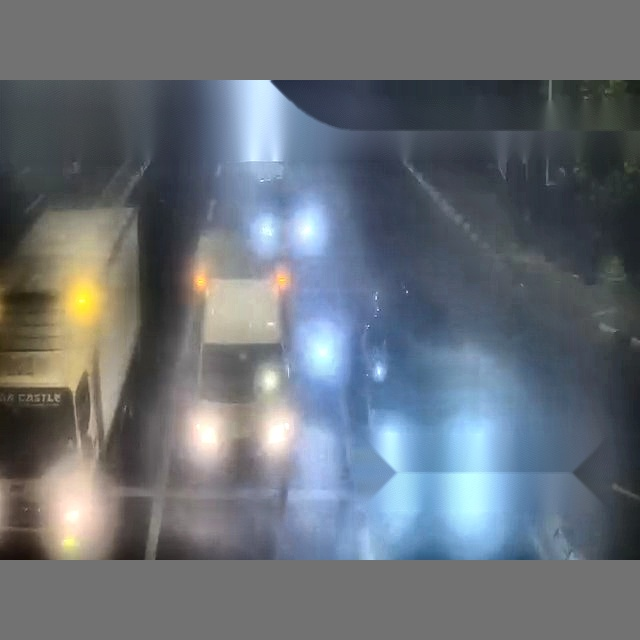Bis: (264, 106, 639, 557)
Truk: (0, 196, 144, 556)
